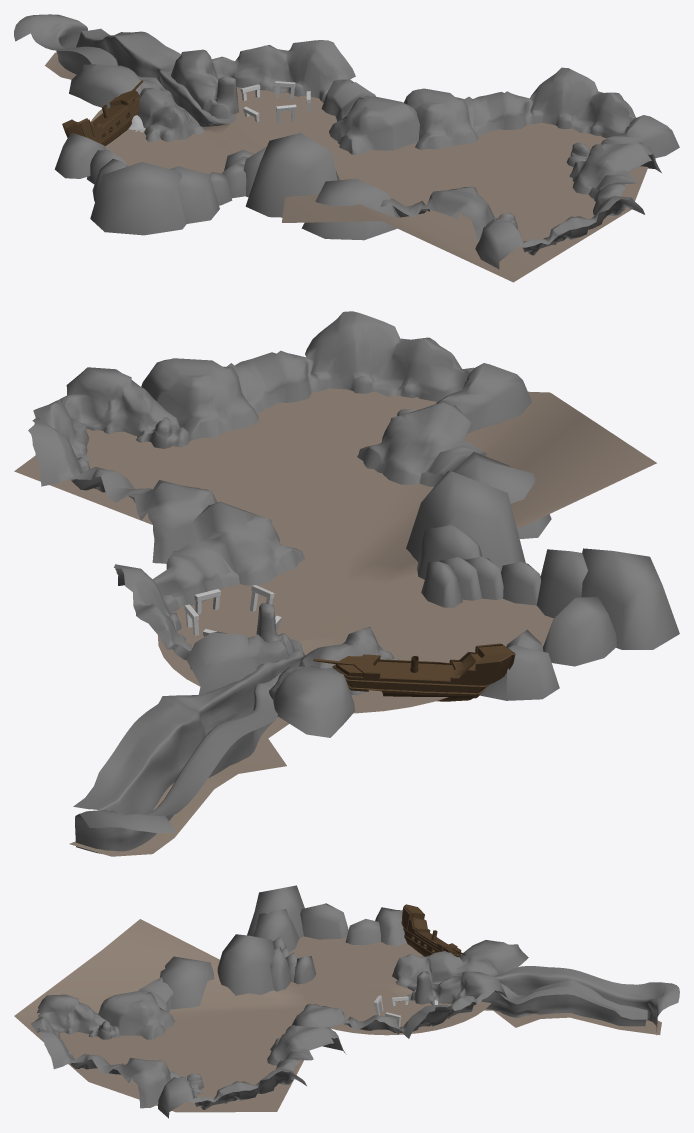
File: RockUpdateTest.fbx
3 views of the same model, one above another, from view 1: azimuth 30°, elevation 25°; view 2: azimuth 150°, elevation 25°; view 3: azimuth 270°, elevation 25° (orthographic). The views are drawn at different scales.
Visible parts, largest first — view 1: polySurface51, RuinRockMesh, RuinRocks1, TrenchWallMesh, RuinRocks2, polySurface40, polySurface34, PirateRockMesh, polySurface35, RuinRocks3, ShipMesh, polySurface31 (+5 smaller); view 2: polySurface51, RuinRocks2, TrenchWallMesh, RuinRockMesh, RuinRocks1, ShipMesh, polySurface40, RuinRocks3, PirateRockMesh, polySurface34, polySurface30, polySurface28 (+7 smaller); view 3: polySurface51, TrenchWallMesh, RuinRocks2, RuinRockMesh, RuinRocks1, PirateRockMesh, RuinRocks3, polySurface34, polySurface35, ShipMesh, polySurface40, polySurface30 (+5 smaller).
Boxes of the visible parts, left/top/right/bottom form: polySurface51: left=45, top=52, right=648, bottom=282; RuinRockMesh: left=171, top=40, right=419, bottom=154; RuinRocks1: left=403, top=67, right=679, bottom=167; TrenchWallMesh: left=14, top=14, right=236, bottom=126; RuinRocks2: left=475, top=142, right=661, bottom=269; polySurface40: left=90, top=162, right=186, bottom=235; polySurface34: left=245, top=132, right=339, bottom=217; PirateRockMesh: left=69, top=64, right=204, bottom=141; polySurface35: left=301, top=178, right=400, bottom=240; RuinRocks3: left=380, top=186, right=495, bottom=241; ShipMesh: left=62, top=80, right=143, bottom=145; polySurface31: left=170, top=166, right=219, bottom=223; polySurface51: left=14, top=388, right=656, bottom=856; RuinRocks2: left=141, top=311, right=531, bottom=440; TrenchWallMesh: left=73, top=639, right=305, bottom=853; RuinRockMesh: left=114, top=501, right=304, bottom=694; RuinRocks1: left=28, top=367, right=217, bottom=563; ShipMesh: left=313, top=643, right=515, bottom=701; polySurface40: left=581, top=548, right=679, bottom=649; RuinRocks3: left=357, top=401, right=486, bottom=486; PirateRockMesh: left=269, top=627, right=399, bottom=737; polySurface34: left=406, top=471, right=525, bottom=571; polySurface30: left=543, top=597, right=616, bottom=666; polySurface28: left=479, top=645, right=559, bottom=700; polySurface51: left=14, top=919, right=661, bottom=1112; TrenchWallMesh: left=402, top=966, right=679, bottom=1035; RuinRocks2: left=31, top=994, right=181, bottom=1108; RuinRockMesh: left=291, top=971, right=506, bottom=1038; RuinRocks1: left=158, top=1025, right=346, bottom=1118; PirateRockMesh: left=392, top=940, right=528, bottom=988; RuinRocks3: left=98, top=977, right=174, bottom=1039; polySurface34: left=217, top=934, right=274, bottom=995; polySurface35: left=160, top=956, right=214, bottom=1009; ShipMesh: left=401, top=904, right=465, bottom=956; polySurface40: left=247, top=885, right=304, bottom=938; polySurface30: left=300, top=903, right=348, bottom=939.
Bounding box in the file's own units: 177 × 34.99 × 240.
